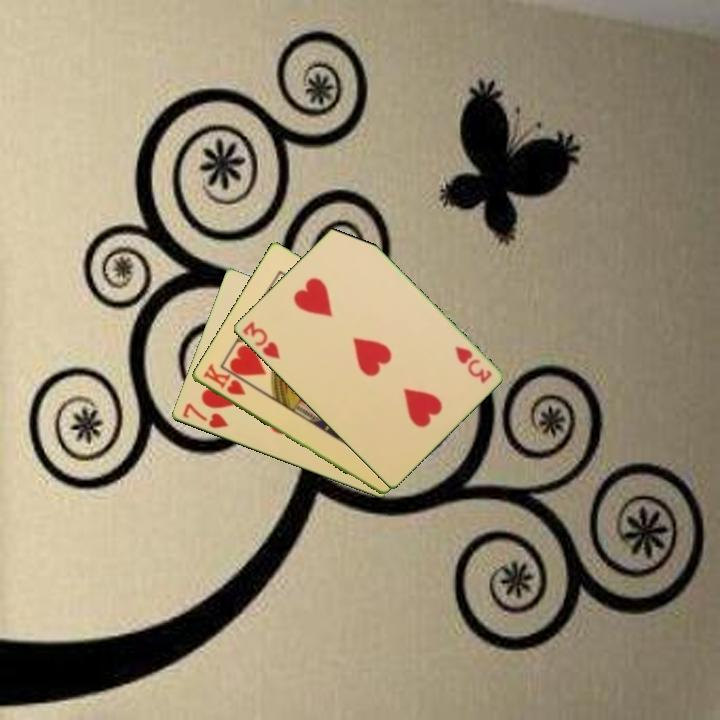3h: (238, 318, 283, 362), (451, 342, 494, 387)
7h: (178, 400, 231, 432)
Kh: (199, 361, 248, 398)
